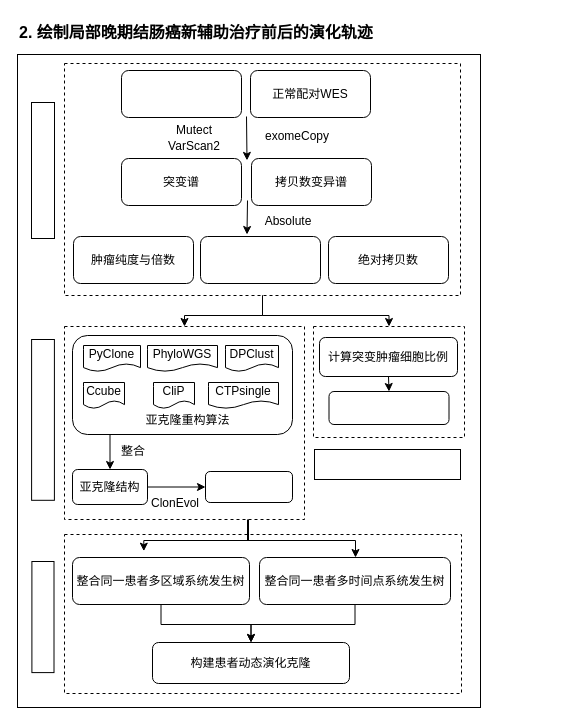
Image size: 575x725. Some labels were removed from this diagram. The shapes that lost their labels are listed below. From the top down, each one's box as (x1, y1, x2, y2) in pixels, then its label:
(120, 70, 242, 118): 多时间点多区域WES
(30, 102, 54, 238): 变异事件识别
(200, 236, 320, 284): 变异等位频率
(31, 338, 54, 500): 推断样本亚克隆结构
(328, 390, 449, 424): 确定突变克隆状态
(314, 448, 460, 480): 推断遗传改变克隆状态
(204, 470, 292, 502): 系统发生树
(31, 560, 54, 673): 绘制演化轨迹
